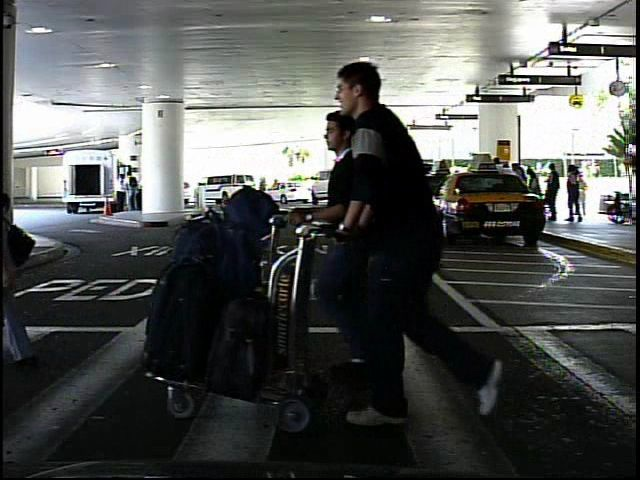person: (341, 47, 521, 426), (304, 112, 371, 385), (578, 172, 597, 219), (114, 172, 129, 213)
